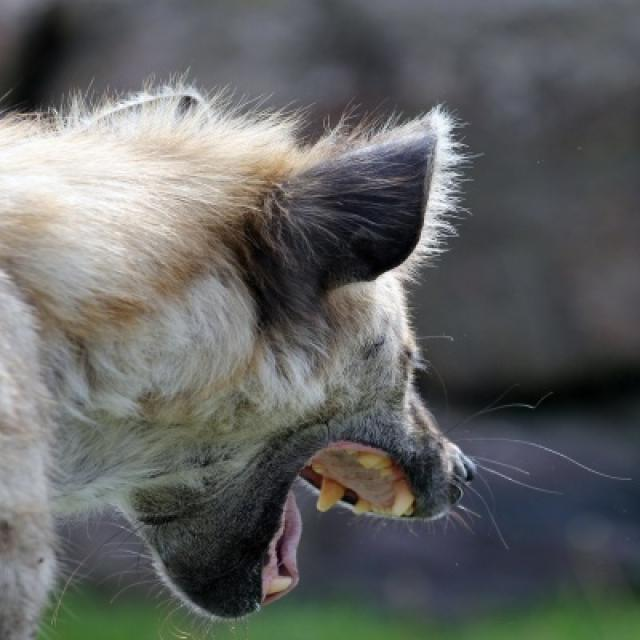hyena: (0, 85, 477, 638)
